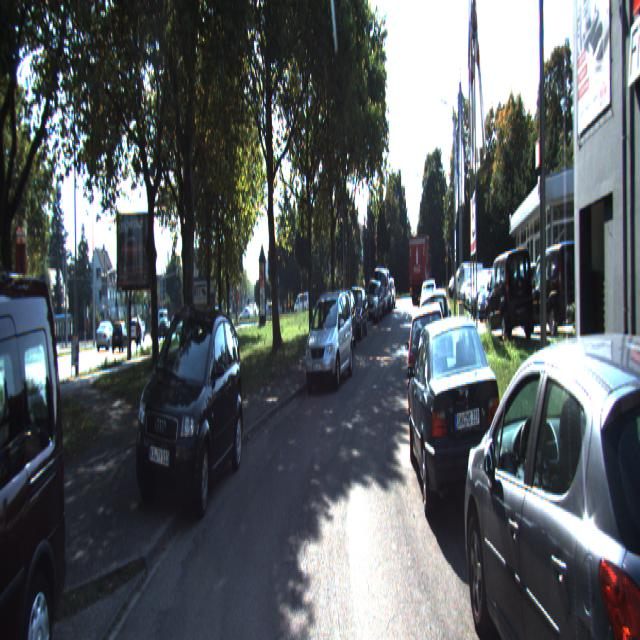Car: (456, 297, 640, 638), (0, 273, 80, 638), (135, 283, 245, 519), (406, 308, 508, 547), (526, 239, 588, 346), (405, 305, 451, 441), (303, 295, 355, 396), (483, 248, 536, 342), (408, 236, 432, 308), (342, 287, 370, 344)
